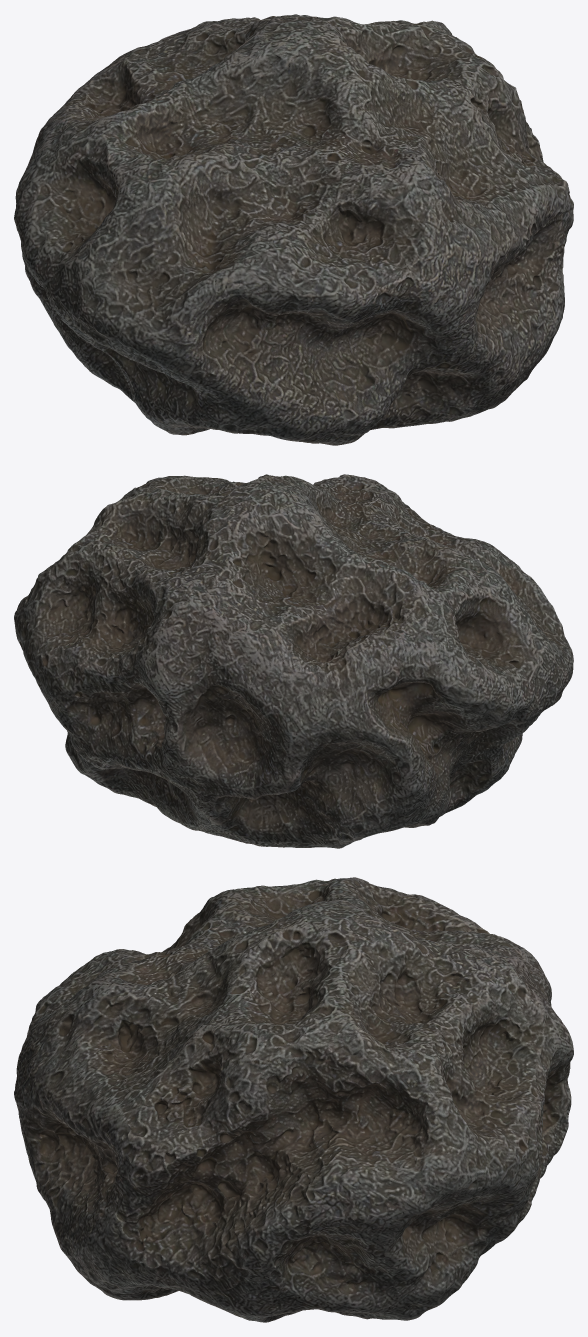
Rendered from asteroid_common_2.glb.
3 views of the same model, one above another, from view 1: azimuth 30°, elevation 25°; view 2: azimuth 150°, elevation 25°; view 3: azimuth 270°, elevation 25° (orthographic). The views are drawn at different scales.
Visible parts, largest first — view 1: model; view 2: model; view 3: model.
Boxes of the visible parts, x1,y1,x2,y2 form: model: [14, 14, 573, 445]; model: [14, 474, 573, 848]; model: [14, 877, 573, 1322].
Bounding box in the file's own units: 1.9 × 1.26 × 1.73.
Materials: 1 (1 with a texture image).
